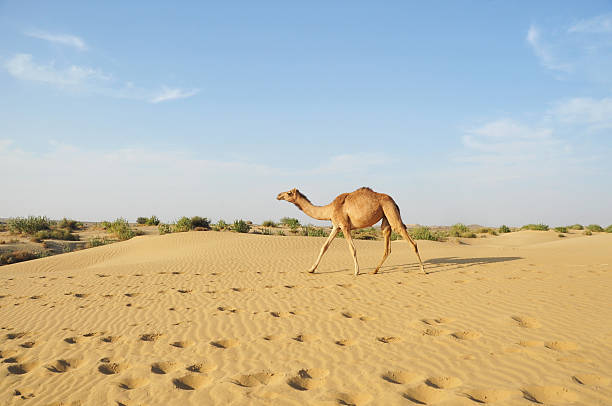animal_footprint: (522, 385, 577, 403), (404, 383, 447, 404), (288, 368, 328, 390), (234, 371, 281, 386), (466, 388, 511, 403), (173, 373, 210, 389), (47, 358, 83, 373), (382, 370, 422, 383), (336, 391, 372, 405), (98, 358, 129, 374), (288, 376, 323, 390), (572, 373, 609, 385), (8, 360, 39, 374), (426, 376, 461, 388), (119, 375, 148, 389), (512, 315, 540, 328), (298, 367, 329, 378), (186, 361, 216, 372), (151, 361, 178, 373), (545, 341, 578, 350), (341, 311, 374, 320), (210, 338, 239, 348), (13, 386, 35, 399), (452, 330, 481, 339), (421, 317, 453, 325), (3, 351, 26, 362), (557, 354, 588, 362), (422, 327, 449, 336), (0, 348, 18, 361), (294, 333, 319, 342), (171, 339, 194, 348), (140, 333, 163, 342), (6, 331, 30, 339), (100, 335, 122, 343), (263, 333, 285, 341), (518, 340, 543, 347), (377, 336, 402, 343), (335, 338, 356, 346), (502, 345, 523, 353), (217, 306, 239, 313), (270, 311, 292, 318), (64, 336, 83, 343), (341, 311, 360, 318), (82, 331, 104, 337), (434, 317, 454, 323), (359, 315, 375, 321), (124, 292, 141, 297), (231, 287, 248, 292), (177, 288, 192, 293), (74, 293, 90, 297)
